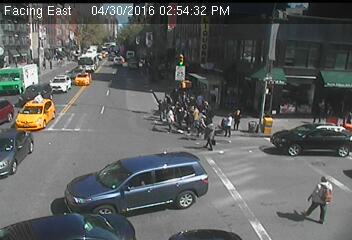neg: (65, 174, 105, 227), (288, 66, 322, 111), (243, 152, 274, 194), (201, 65, 231, 105), (261, 20, 290, 59), (187, 7, 205, 32), (151, 47, 169, 71), (80, 46, 97, 69), (118, 51, 133, 71), (322, 37, 335, 55)
pos: (293, 174, 339, 234), (196, 116, 227, 157), (229, 106, 249, 133), (220, 111, 239, 137), (47, 56, 58, 71)
